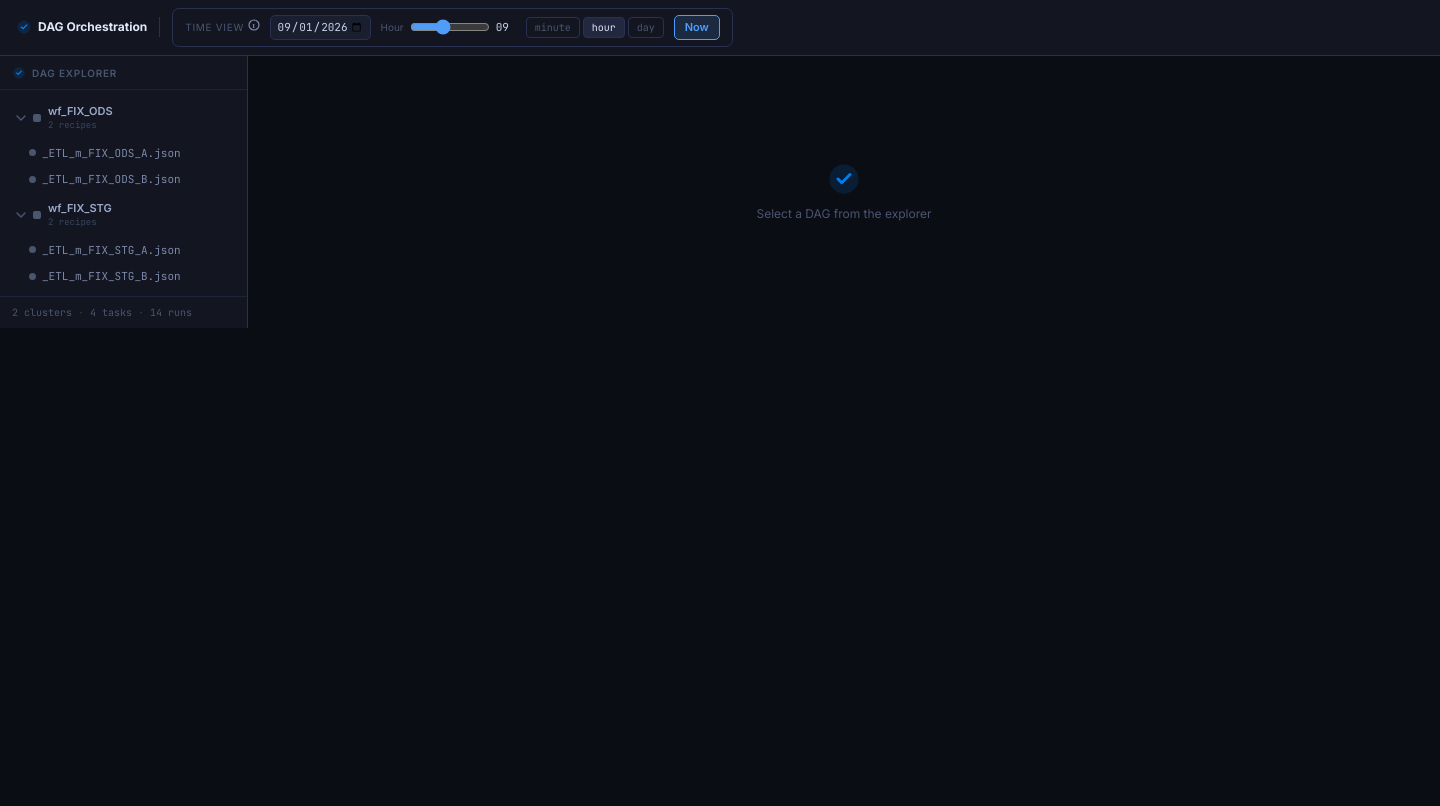
Test: ETLDag — real run selector, per-date coloring, GCP links, replay-mock › (g) the run-history strip renders only the fetched window (10), oldest-fetched first — not every available date
Click the text "wf_FIX_ODS" at (80, 110), box [48,104,113,118]
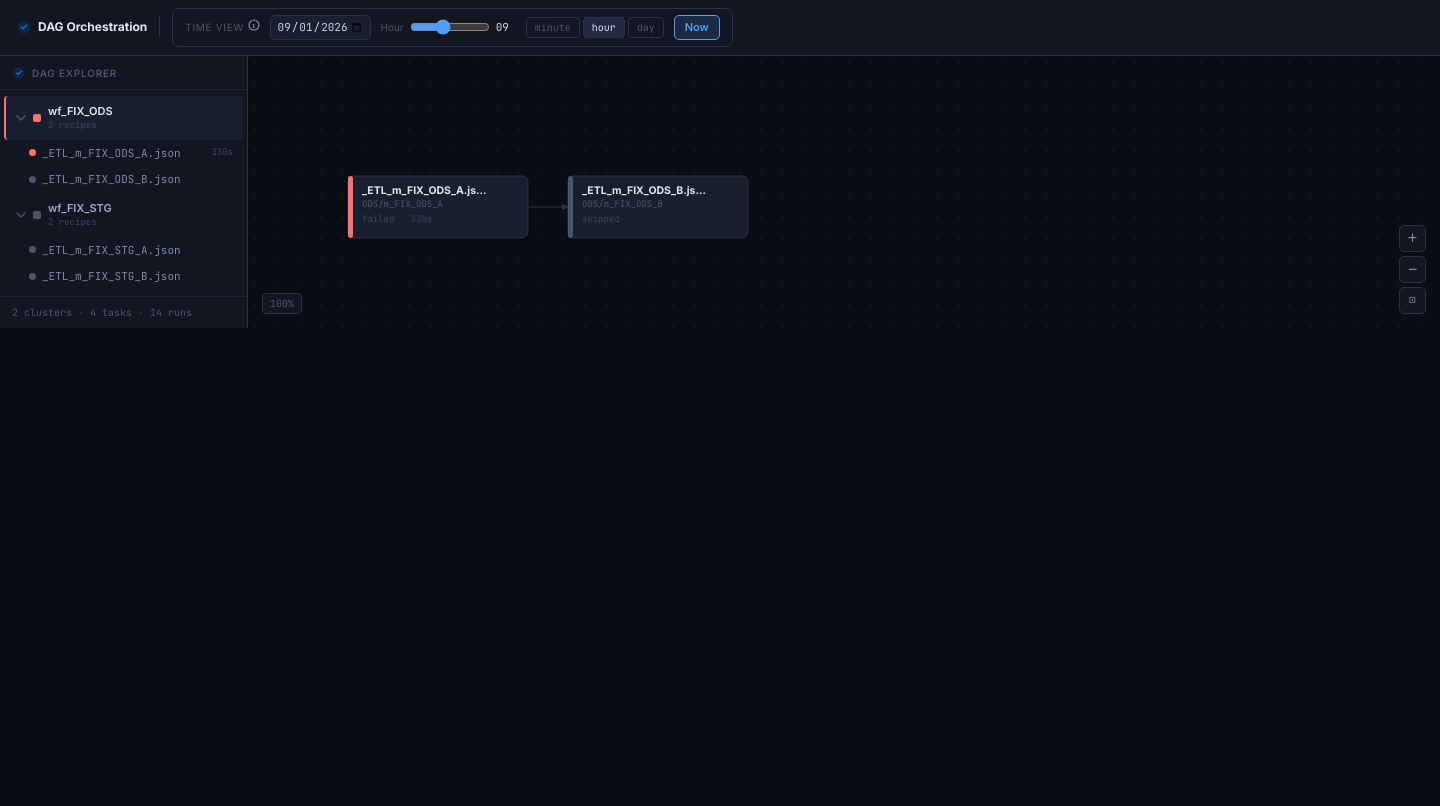
Click the text "_ETL_m_FIX_ODS_A.json" at (111, 152), box [42,146,181,160]
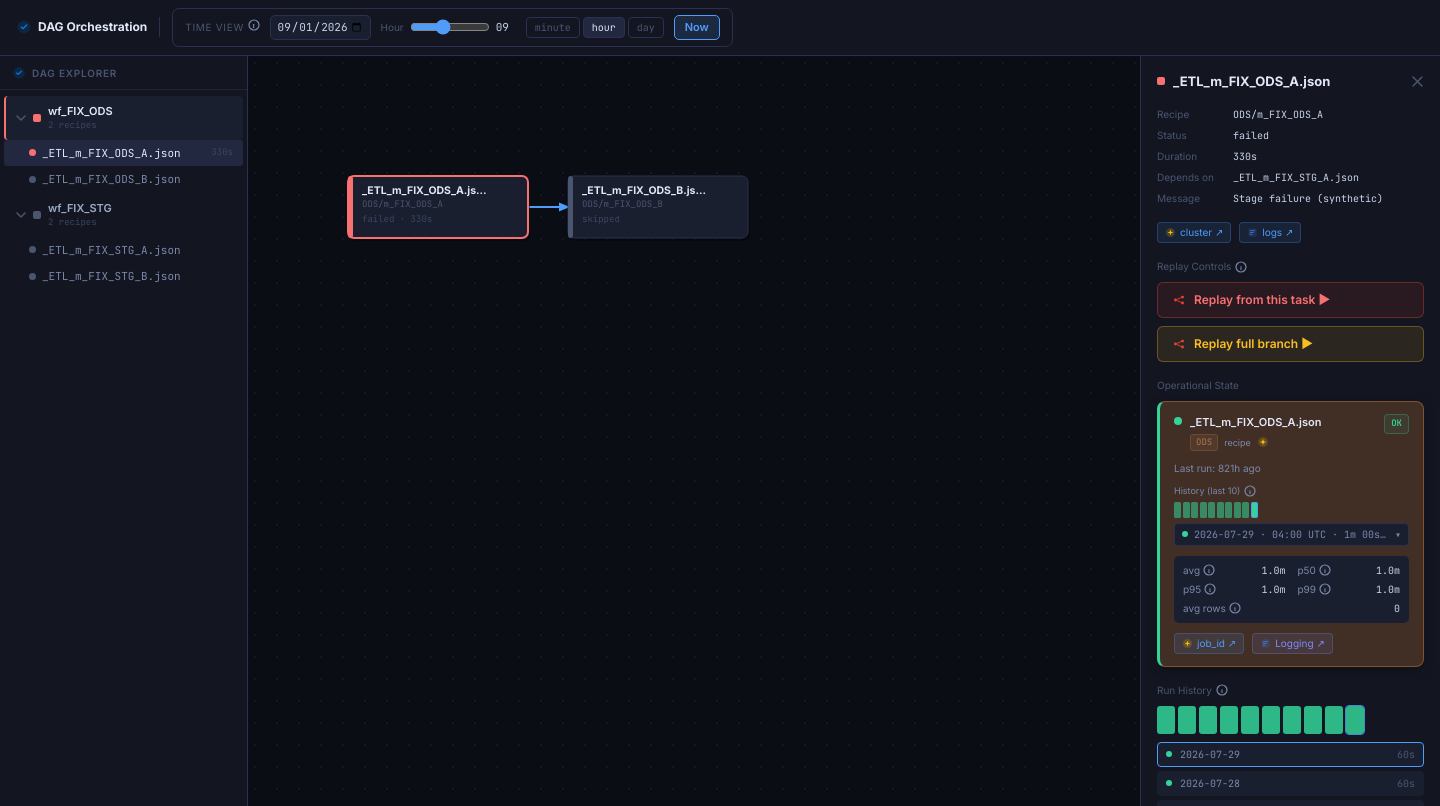
expect the text "2026-07-29" is shown 10 times: met
